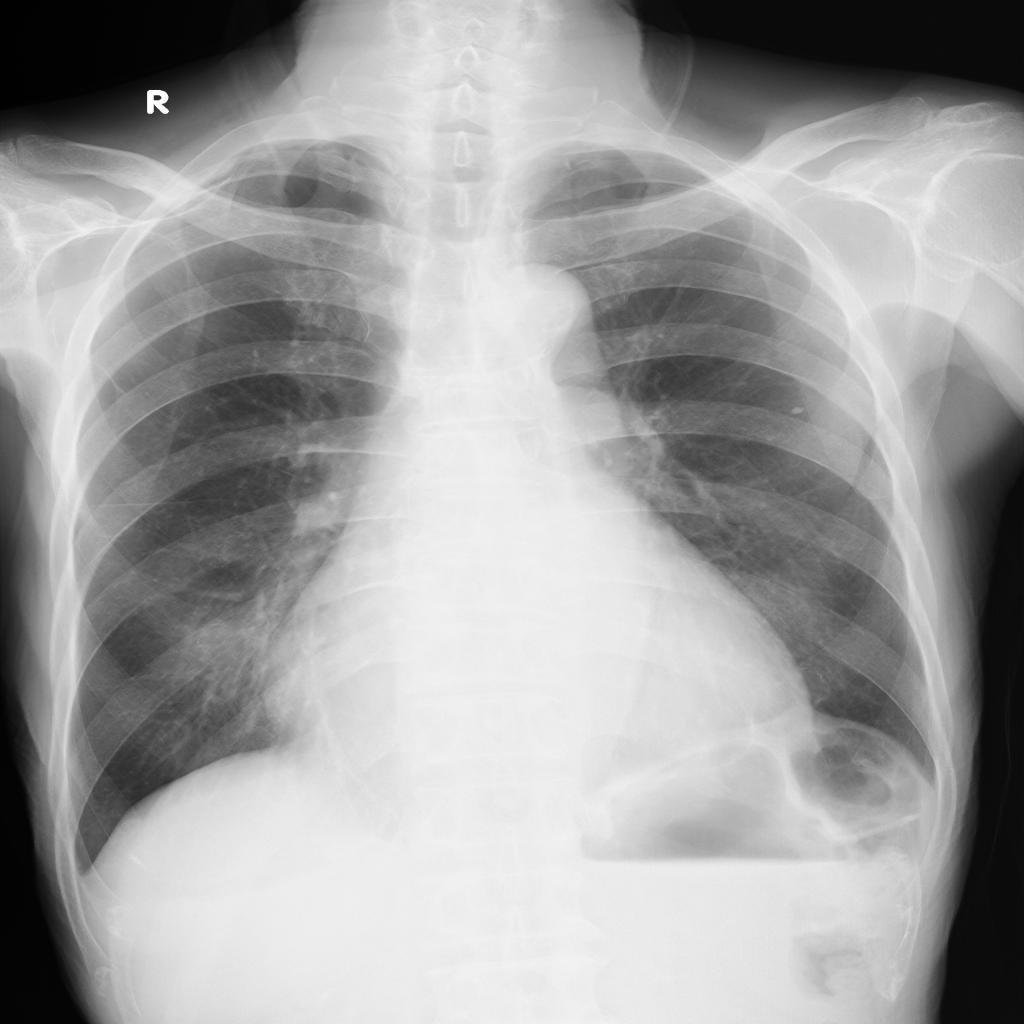Nodule: (790, 407, 808, 418)
